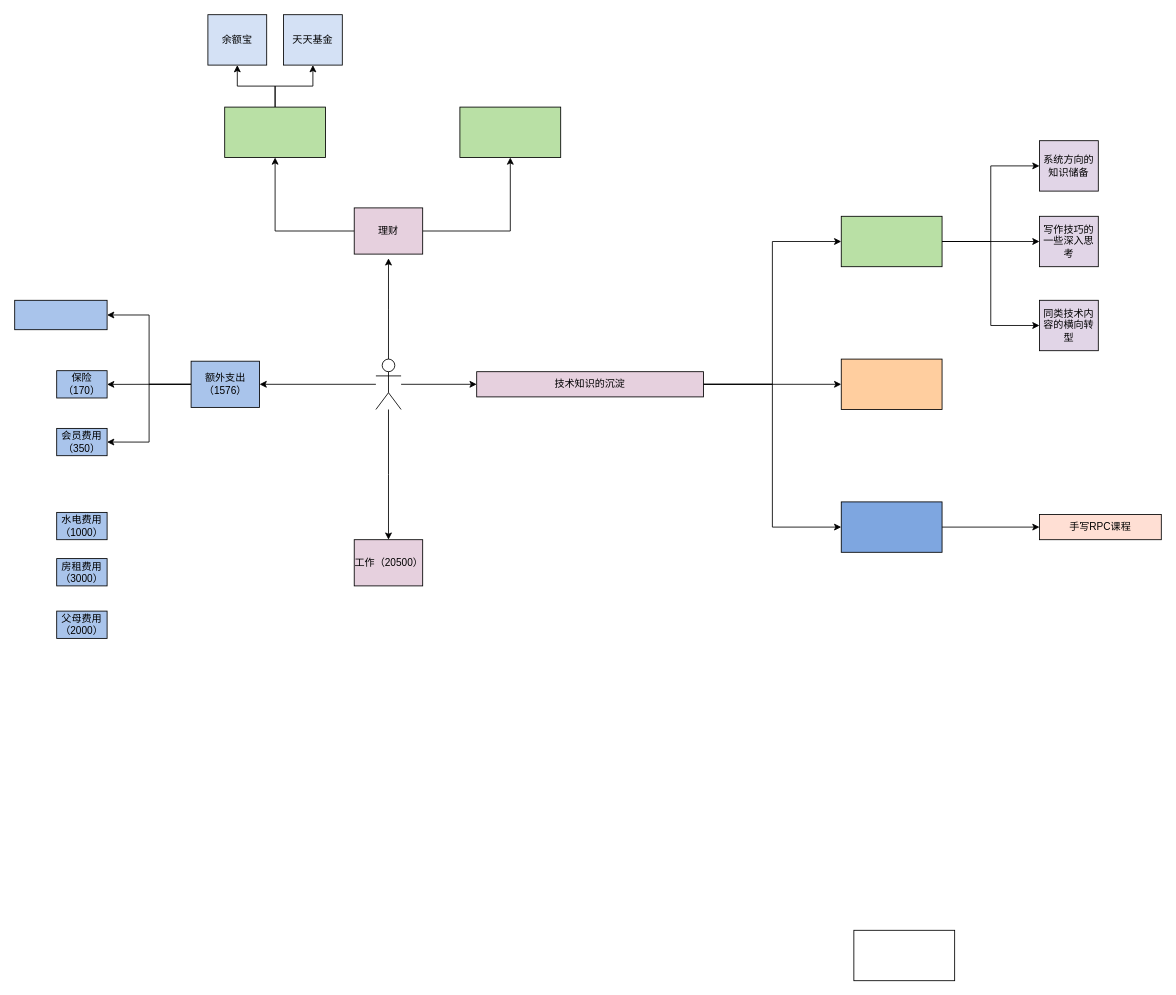
The diagram is 1176 pixels wide and 995 high, and some of its shapes have lost their labels. Here are the shapes that lost their labels. From the top down, the box of each, then its label:
(224, 106, 326, 158): 保值投资（810）
(459, 106, 561, 158): 风险类投资（暂无）
(840, 215, 942, 267): 微信公众号
(14, 299, 107, 330): 吃，喝，出行（1056）
(375, 358, 401, 410): 个人
(840, 358, 942, 410): 公众号投稿（800）
(840, 501, 942, 552): 掘金课程（6700）
(853, 929, 955, 981): 其他领域的探索
